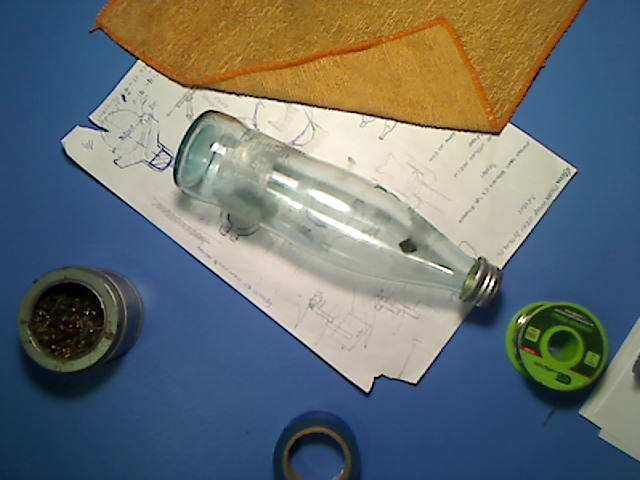bottle: (172, 108, 504, 309)
